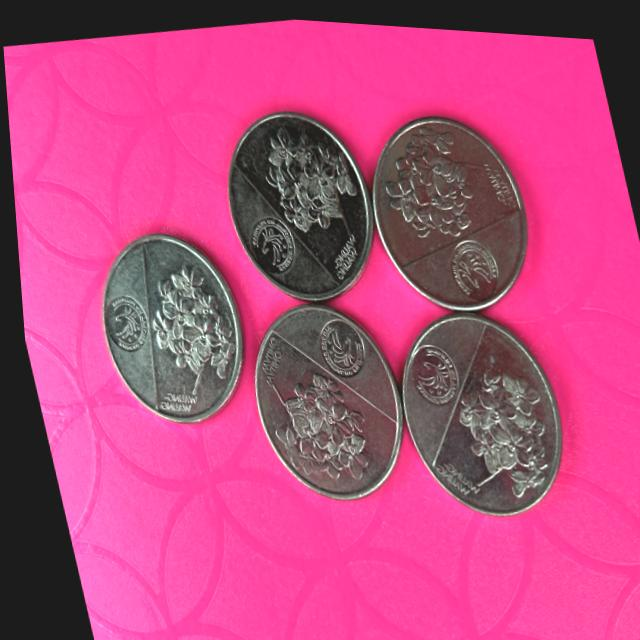1_New_Back: (242, 99, 375, 271), (126, 246, 247, 421), (255, 339, 384, 498), (437, 349, 564, 508), (369, 111, 512, 234)
